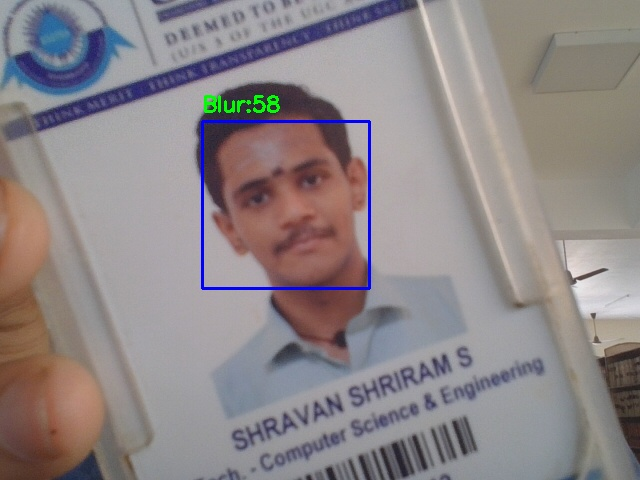fake: (202, 121, 369, 288)
